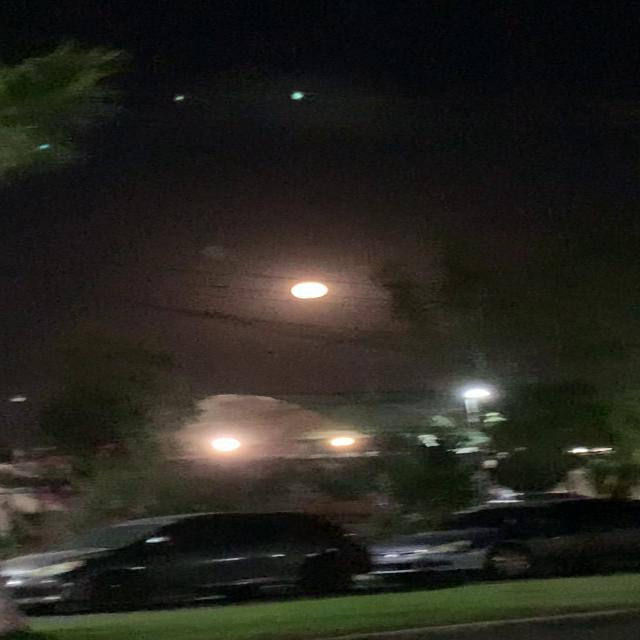moon: (280, 264, 340, 298)
